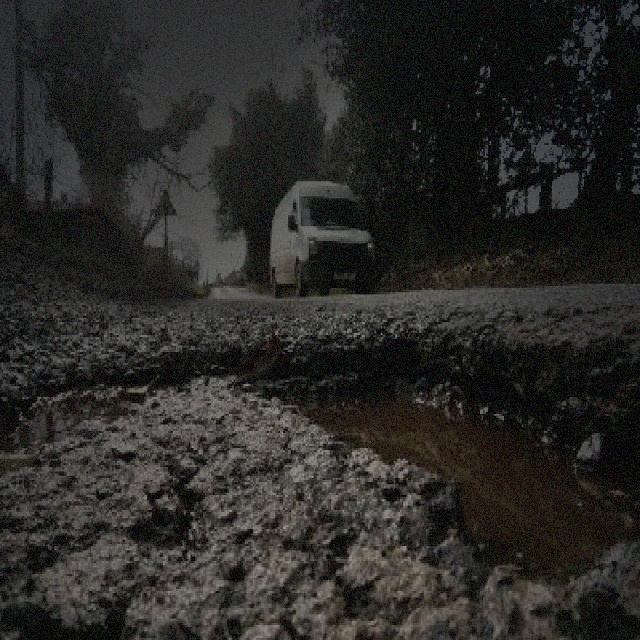pothole: (0, 330, 638, 603)
